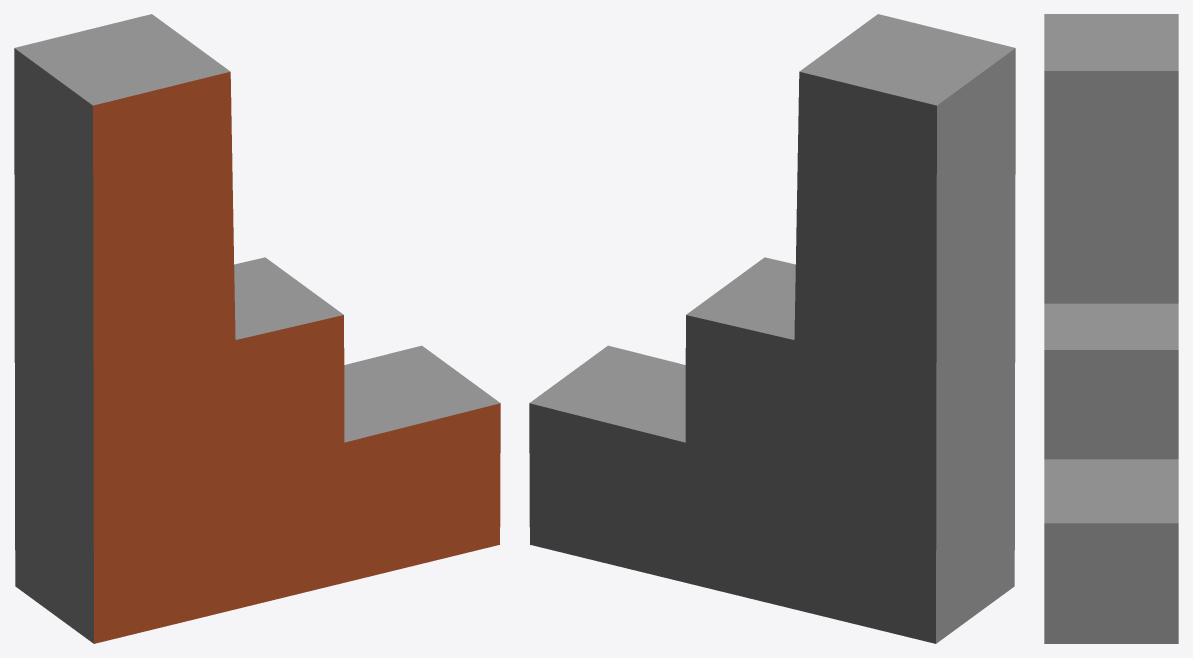
Rendered from construction_4991_assumed_A_Casa_h6m.obj.
The picture shows the model from 3 angles, left to right: view 1: azimuth 30°, elevation 25°; view 2: azimuth 150°, elevation 25°; view 3: azimuth 270°, elevation 25°; orthographic projection. The views are drawn at different scales.
Parts seen in each view (by area): view 1: construction_4991_assumed_A_Casa; view 2: construction_4991_assumed_A_Casa; view 3: construction_4991_assumed_A_Casa.
Boxes of the visible parts, x1,y1,x2,y2 form: construction_4991_assumed_A_Casa: (14,14,500,643); construction_4991_assumed_A_Casa: (529,14,1015,643); construction_4991_assumed_A_Casa: (1044,14,1178,643).
Bounding box in the file's own units: 17.93 × 22.65 × 6.
